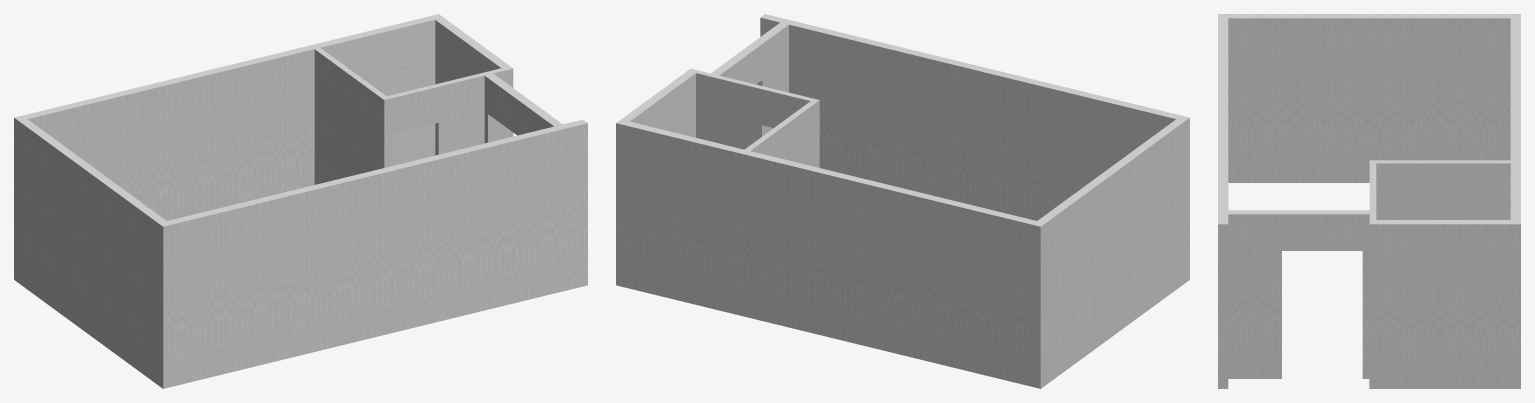
Rendered from WallsFix.fbx.
The picture shows the model from 3 angles, left to right: view 1: azimuth 30°, elevation 25°; view 2: azimuth 150°, elevation 25°; view 3: azimuth 270°, elevation 25°; orthographic projection.
Parts seen in each view (by area): view 1: Walls; view 2: Walls; view 3: Walls.
Part boxes in pixels (x1=…): Walls: x1=14, y1=14, x2=587, y2=388; Walls: x1=616, y1=14, x2=1189, y2=388; Walls: x1=1218, y1=14, x2=1520, y2=388.
Size of the model in its own units: 740 by 270 by 450.
Materials: 2 (2 with a texture image).
